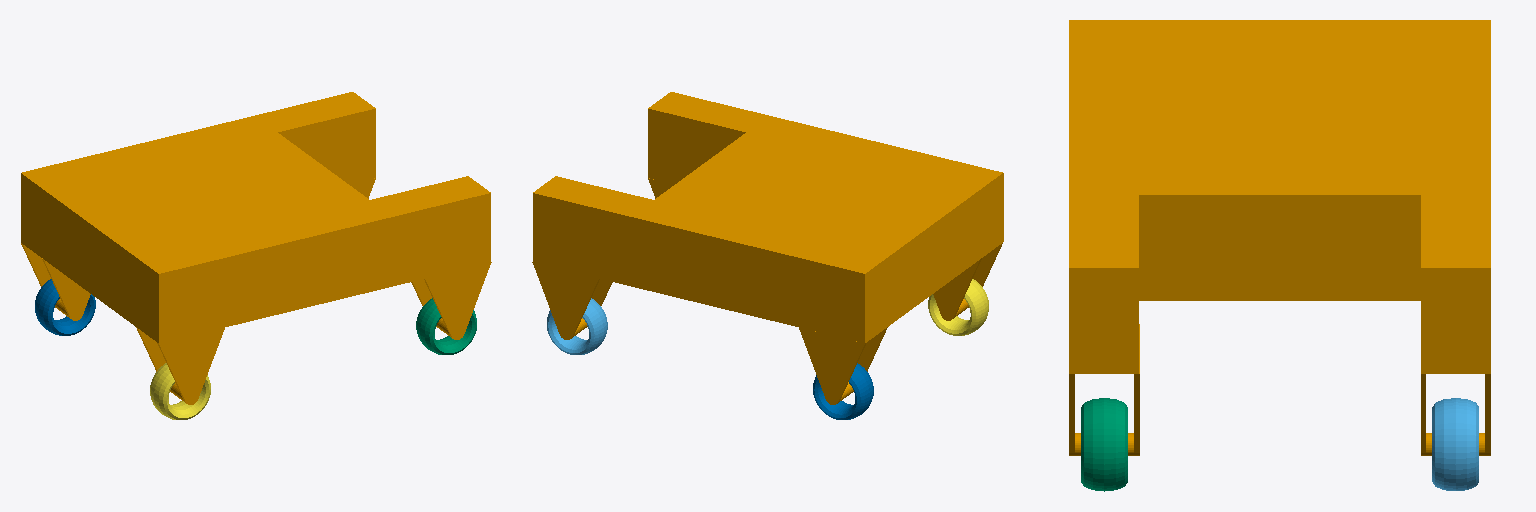
The robot description file, URDF, robot "Robot":
<robot name="Robot" version="1.0">
  <joint name="Wheel_1" type="continuous">
    <limit lower="0" upper="0" effort="0.00000" velocity="0.00000"/>
    <origin rpy="1.57080 0.00000 0.00000" xyz="1.00000 -0.75000 -0.70000"/>
    <parent link="Chasis_link"/>
    <child link="Wheel_Front_Right_link"/>
    <axis xyz="0.00000 0.00000 1.00000"/>
  </joint>
  <joint name="Wheel_2" type="continuous">
    <limit lower="0" upper="0" effort="0.00000" velocity="0.00000"/>
    <origin rpy="1.57080 0.00000 0.00000" xyz="-1.00000 -0.75000 -0.70000"/>
    <parent link="Chasis_link"/>
    <child link="Wheel_Rear_Left_link"/>
    <axis xyz="0.00000 0.00000 1.00000"/>
  </joint>
  <joint name="Wheel_3" type="continuous">
    <limit lower="0" upper="0" effort="0.00000" velocity="0.00000"/>
    <origin rpy="1.57080 0.00000 0.00000" xyz="1.00000 0.75000 -0.70000"/>
    <parent link="Chasis_link"/>
    <child link="Wheel_Front_Left_link"/>
    <axis xyz="0.00000 0.00000 1.00000"/>
  </joint>
  <joint name="Wheel_4" type="continuous">
    <limit lower="0" upper="0" effort="0.00000" velocity="0.00000"/>
    <origin rpy="1.57080 0.00000 0.00000" xyz="-1.00000 0.75000 -0.70000"/>
    <parent link="Chasis_link"/>
    <child link="Wheel_Rear_Right_link"/>
    <axis xyz="0.00000 0.00000 1.00000"/>
  </joint>
  <link name="Chasis_link">
    <collision name="Chasis_collision">
      <origin rpy="0.00000 0.00000 0.00000" xyz="0.00000 0.00000 0.00000"/>
      <geometry>
        <mesh filename="../meshes/dae/Cube.001.dae" scale="1.50000 1.10000 0.25000"/>
      </geometry>
    </collision>
    <visual name="Chasis">
      <origin rpy="0.00000 0.00000 0.00000" xyz="0.00000 0.00000 0.00000"/>
      <geometry>
        <mesh filename="../meshes/dae/Cube.001.dae" scale="1.50000 1.10000 0.25000"/>
      </geometry>
    </visual>
  </link>
  <link name="Wheel_Front_Left_link">
    <collision name="Wheel_Front_Left_collision">
      <origin rpy="-0.00000 0.00000 0.00000" xyz="0.00000 0.00000 0.00000"/>
      <geometry>
        <mesh filename="../meshes/dae/Torus.001.dae" scale="0.16000 0.16000 0.40000"/>
      </geometry>
    </collision>
    <visual name="Wheel_Front_Left">
      <origin rpy="0.00000 0.00000 0.00000" xyz="0.00000 0.00000 0.00000"/>
      <geometry>
        <mesh filename="../meshes/dae/Torus.001.dae" scale="0.16000 0.16000 0.40000"/>
      </geometry>
    </visual>
  </link>
  <link name="Wheel_Front_Right_link">
    <collision name="Wheel_Front_Right_collision">
      <origin rpy="-0.00000 0.00000 0.00000" xyz="0.00000 0.00000 -0.00000"/>
      <geometry>
        <mesh filename="../meshes/dae/Torus.dae" scale="0.16000 0.16000 0.40000"/>
      </geometry>
    </collision>
    <visual name="Wheel_Front_Right">
      <origin rpy="0.00000 0.00000 0.00000" xyz="0.00000 0.00000 -0.00000"/>
      <geometry>
        <mesh filename="../meshes/dae/Torus.dae" scale="0.16000 0.16000 0.40000"/>
      </geometry>
    </visual>
  </link>
  <link name="Wheel_Rear_Left_link">
    <collision name="Wheel_Rear_Left_collision">
      <origin rpy="-0.00000 0.00000 0.00000" xyz="0.00000 0.00000 -0.00000"/>
      <geometry>
        <mesh filename="../meshes/dae/Torus.003.dae" scale="0.16000 0.16000 0.40000"/>
      </geometry>
    </collision>
    <visual name="Wheel_Rear_Left">
      <origin rpy="0.00000 0.00000 0.00000" xyz="0.00000 0.00000 -0.00000"/>
      <geometry>
        <mesh filename="../meshes/dae/Torus.003.dae" scale="0.16000 0.16000 0.40000"/>
      </geometry>
    </visual>
  </link>
  <link name="Wheel_Rear_Right_link">
    <collision name="Wheel_Rear_Right_collision">
      <origin rpy="-0.00000 0.00000 0.00000" xyz="0.00000 0.00000 0.00000"/>
      <geometry>
        <mesh filename="../meshes/dae/Torus.002.dae" scale="0.16000 0.16000 0.40000"/>
      </geometry>
    </collision>
    <visual name="Wheel_Rear_Right">
      <origin rpy="0.00000 0.00000 0.00000" xyz="0.00000 0.00000 0.00000"/>
      <geometry>
        <mesh filename="../meshes/dae/Torus.002.dae" scale="0.16000 0.16000 0.40000"/>
      </geometry>
    </visual>
  </link>
</robot>

--- Render facts (derived) ---
3 views of the same robot in one strip: view 1: azimuth 30°, elevation 25°; view 2: azimuth 150°, elevation 25°; view 3: azimuth 270°, elevation 25° (orthographic).
Model Robot with 5 links and 4 joints (4 continuous), rooted at Chasis_link, posed every joint at zero.
Links seen in each view (by area): view 1: Chasis_link, Wheel_Rear_Left_link, Wheel_Front_Right_link, Wheel_Rear_Right_link; view 2: Chasis_link, Wheel_Rear_Right_link, Wheel_Rear_Left_link, Wheel_Front_Left_link; view 3: Chasis_link, Wheel_Front_Right_link, Wheel_Front_Left_link.
Link boxes in pixels (x1,y1,x2,y2): Chasis_link: (21, 92, 491, 404); Wheel_Rear_Left_link: (150, 363, 210, 419); Wheel_Front_Right_link: (416, 298, 476, 354); Wheel_Rear_Right_link: (35, 279, 95, 335); Chasis_link: (532, 92, 1003, 404); Wheel_Rear_Right_link: (813, 363, 873, 419); Wheel_Rear_Left_link: (928, 279, 988, 335); Wheel_Front_Left_link: (547, 298, 607, 354); Chasis_link: (1069, 20, 1490, 455); Wheel_Front_Right_link: (1081, 398, 1127, 491); Wheel_Front_Left_link: (1432, 398, 1478, 490).
Bounding box of the posed robot: 2.5 × 1.8 × 1.15 m (x, y, z).
Meshes: 5 distinct files referenced, 5 mesh visuals loaded (5 Collada DAE).